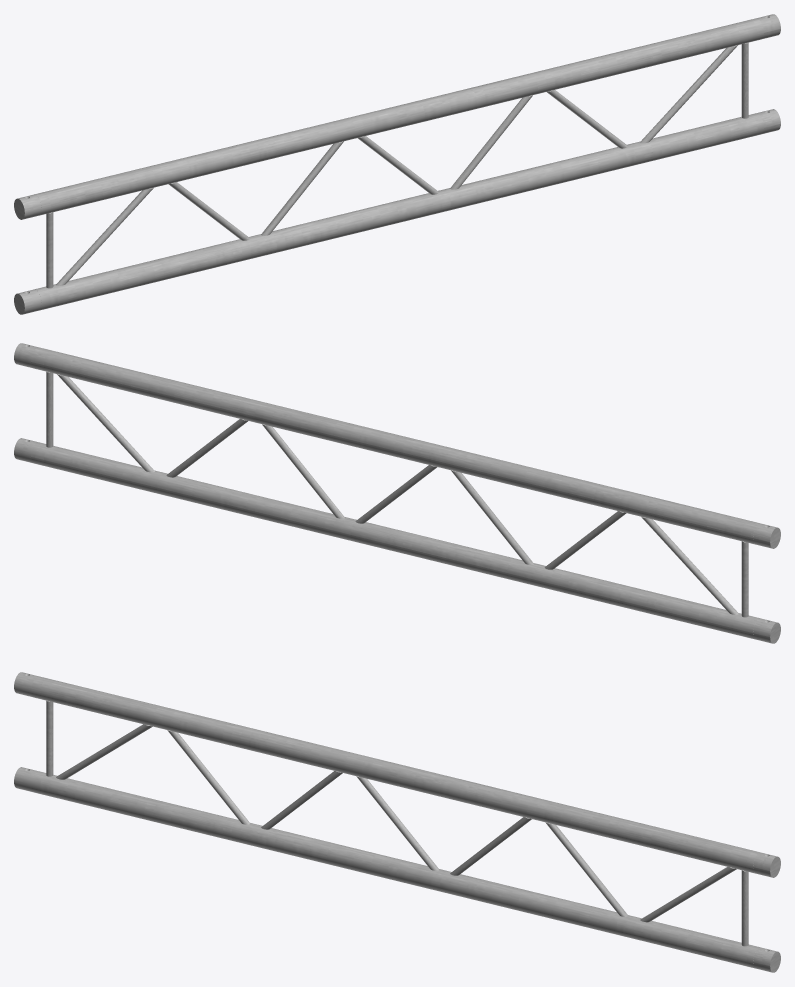
The model's file is Milos_M290V_2000_Duo_truss_section-39bf141d.glb.
3 renders of one model, top to bottom at view 1: azimuth 30°, elevation 25°; view 2: azimuth 150°, elevation 25°; view 3: azimuth 330°, elevation 25°, orthographic.
Parts seen in each view (by area): view 1: Geom3D; view 2: Geom3D; view 3: Geom3D.
Boxes of the visible parts, x1,y1,x2,y2 form: Geom3D: [14, 14, 780, 314]; Geom3D: [14, 343, 780, 643]; Geom3D: [14, 672, 780, 972].
Bounding box in the file's own units: 2 × 0.29 × 0.05.
Materials: 2 (1 with a texture image).
